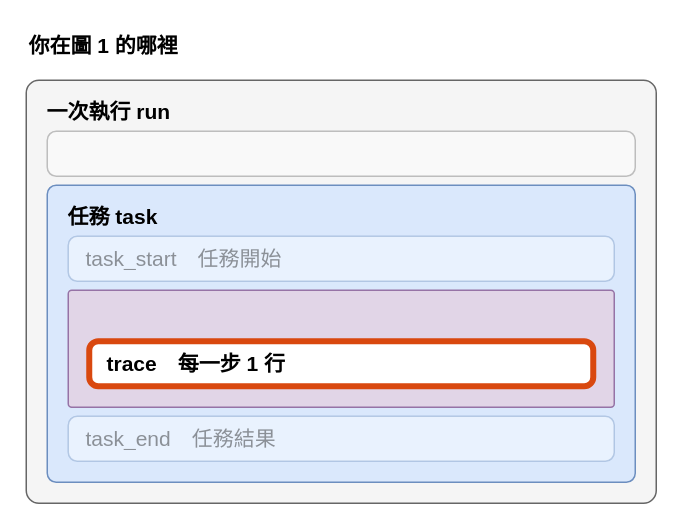
This 683x530 diagram has some shape labels left out. Here are the shapes that lost their labels. From the top down, the box of each, then its label:
(46, 130, 635, 176): run_start 這次執行的條件
(67, 289, 614, 407): 步 step
